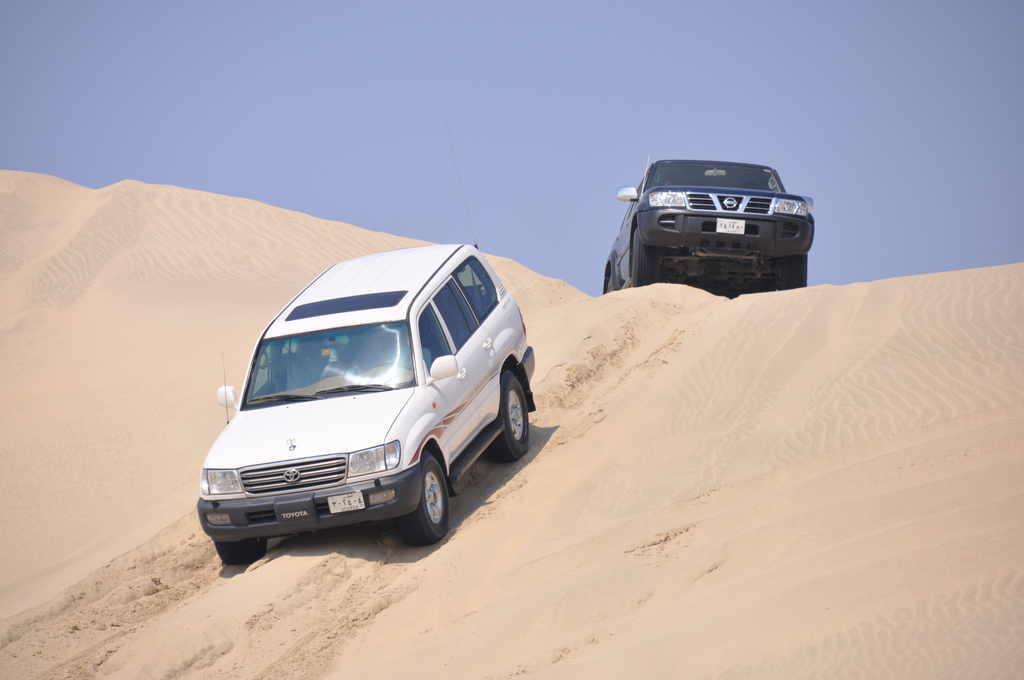car: (169, 220, 552, 558), (573, 133, 840, 305)
